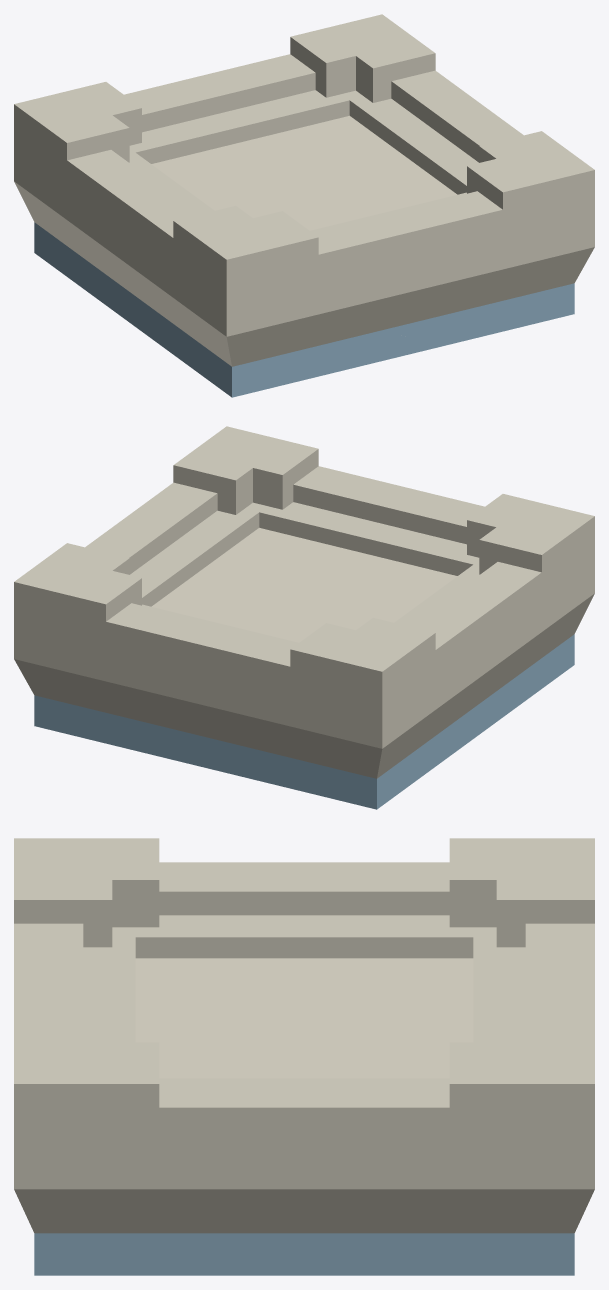
Rendered from towerSquareTopColor.fbx.
3 views of the same model, one above another, from view 1: azimuth 30°, elevation 25°; view 2: azimuth 150°, elevation 25°; view 3: azimuth 270°, elevation 25° (orthographic). The views are drawn at different scales.
Parts seen in each view (by area): view 1: towerSquareTopColor, towerSquareTopColor_cell, towerSquareTopColor_cell.004, towerSquareTopColor_cell.006, towerSquareTopColor_cell.003, towerSquareTopColor_cell.001, towerSquareTopColor_cell.005, towerSquareTopColor_cell.002; view 2: towerSquareTopColor, towerSquareTopColor_cell.006, towerSquareTopColor_cell.005, towerSquareTopColor_cell.003, towerSquareTopColor_cell.001, towerSquareTopColor_cell.004, towerSquareTopColor_cell; view 3: towerSquareTopColor, towerSquareTopColor_cell.001, towerSquareTopColor_cell.002, towerSquareTopColor_cell.005, towerSquareTopColor_cell.007, towerSquareTopColor_cell.004, towerSquareTopColor_cell.
Boxes of the visible parts, x1,y1,x2,y2 form: towerSquareTopColor: [14, 14, 594, 397]; towerSquareTopColor_cell: [248, 230, 451, 338]; towerSquareTopColor_cell.004: [229, 39, 474, 182]; towerSquareTopColor_cell.006: [120, 199, 412, 373]; towerSquareTopColor_cell.003: [176, 240, 327, 397]; towerSquareTopColor_cell.001: [14, 95, 316, 209]; towerSquareTopColor_cell.005: [404, 116, 575, 265]; towerSquareTopColor_cell.002: [410, 256, 589, 352]; towerSquareTopColor: [14, 426, 594, 809]; towerSquareTopColor_cell.006: [348, 520, 562, 736]; towerSquareTopColor_cell.005: [155, 433, 367, 577]; towerSquareTopColor_cell.003: [519, 516, 594, 705]; towerSquareTopColor_cell.001: [196, 596, 488, 767]; towerSquareTopColor_cell.004: [14, 532, 286, 721]; towerSquareTopColor_cell: [362, 502, 455, 532]; towerSquareTopColor: [14, 838, 594, 1275]; towerSquareTopColor_cell.001: [304, 862, 594, 1039]; towerSquareTopColor_cell.002: [14, 1112, 246, 1275]; towerSquareTopColor_cell.005: [14, 1011, 329, 1275]; towerSquareTopColor_cell.007: [14, 1067, 340, 1178]; towerSquareTopColor_cell.004: [309, 1038, 594, 1275]; towerSquareTopColor_cell: [14, 900, 87, 923].
Bounding box in the file's own units: 1000 × 380 × 1000.
